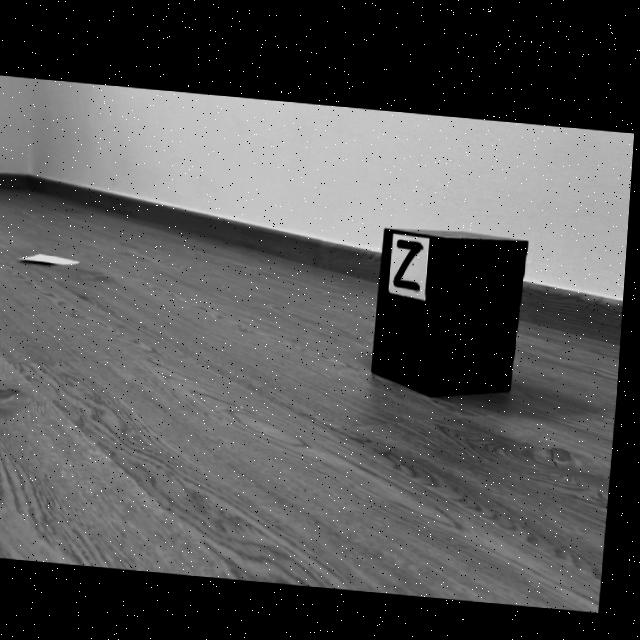Z: (397, 233, 425, 284)
